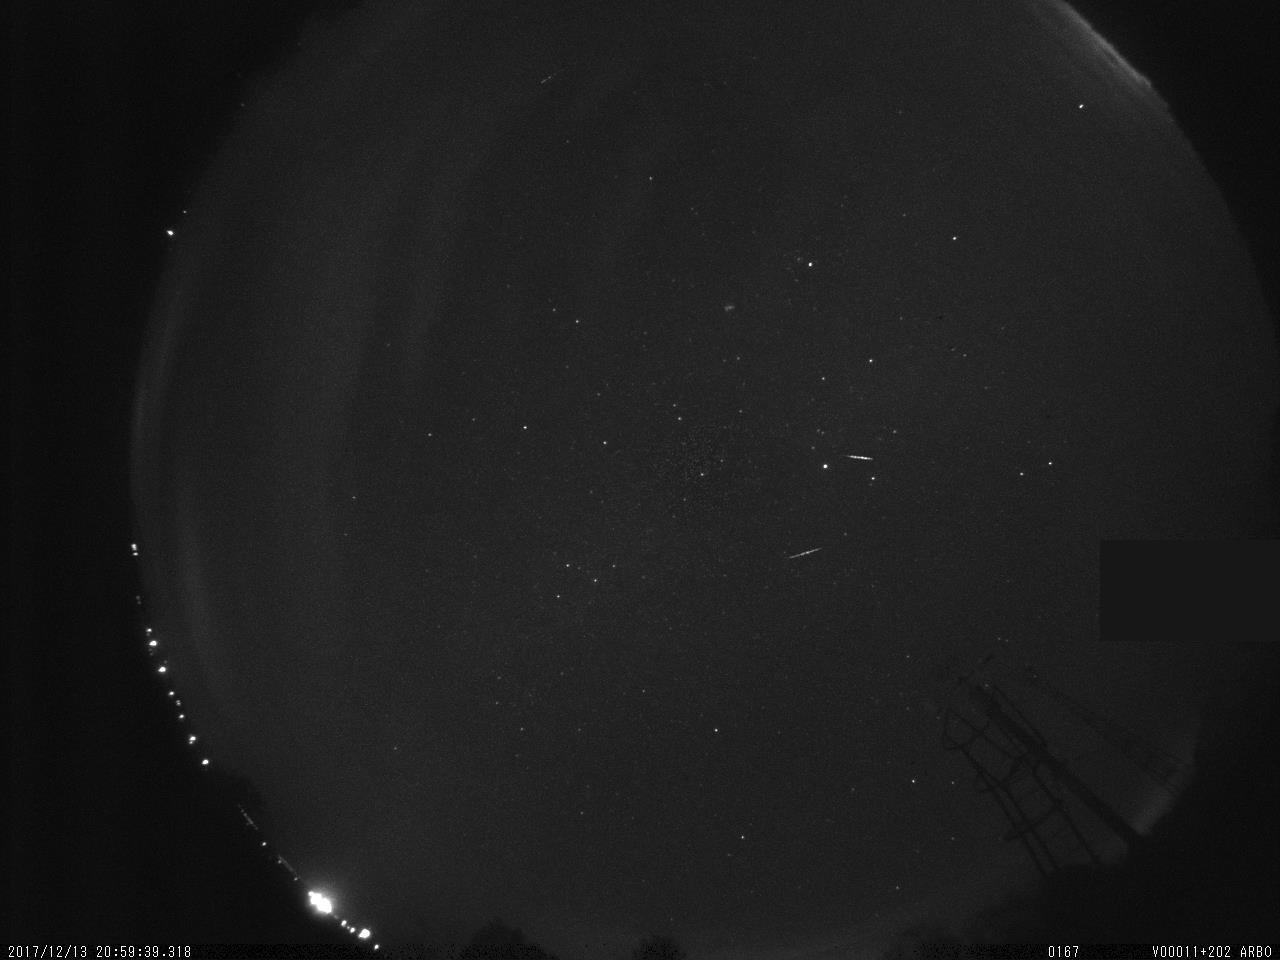meteor: (773, 526, 836, 577), (835, 435, 887, 472)
